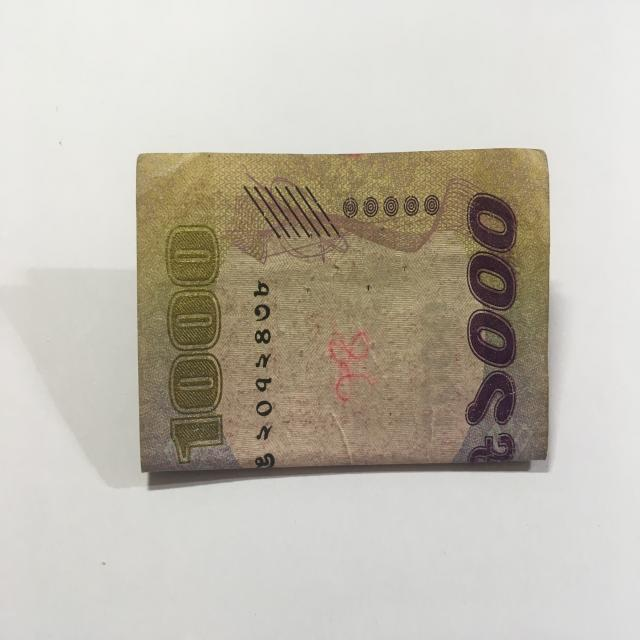Taka: (133, 136, 552, 478)
